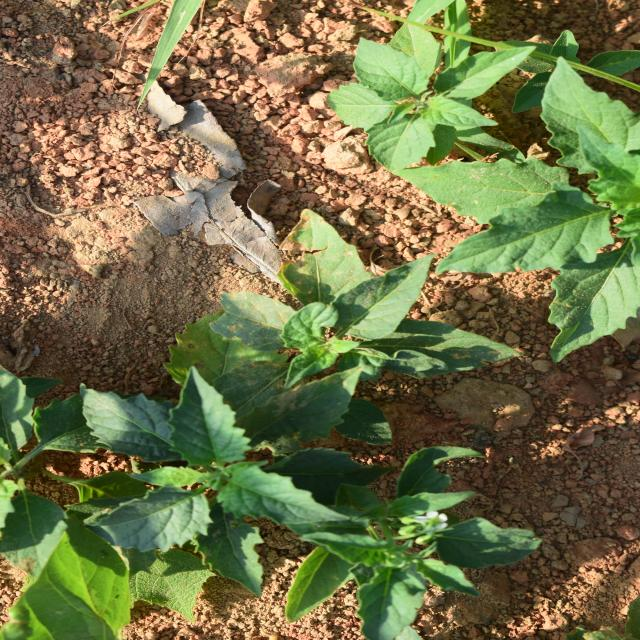Black_nightshade: (286, 420, 567, 635), (89, 78, 277, 350), (228, 243, 418, 473), (5, 285, 184, 500)
